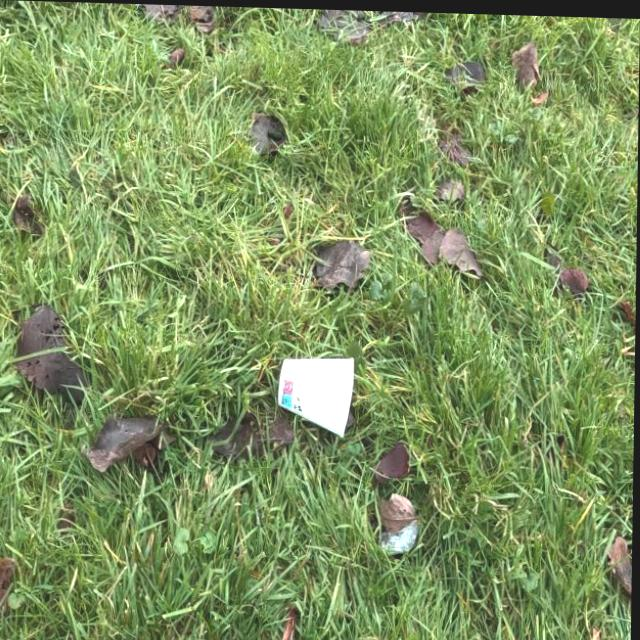Cup: (275, 349, 362, 438)
